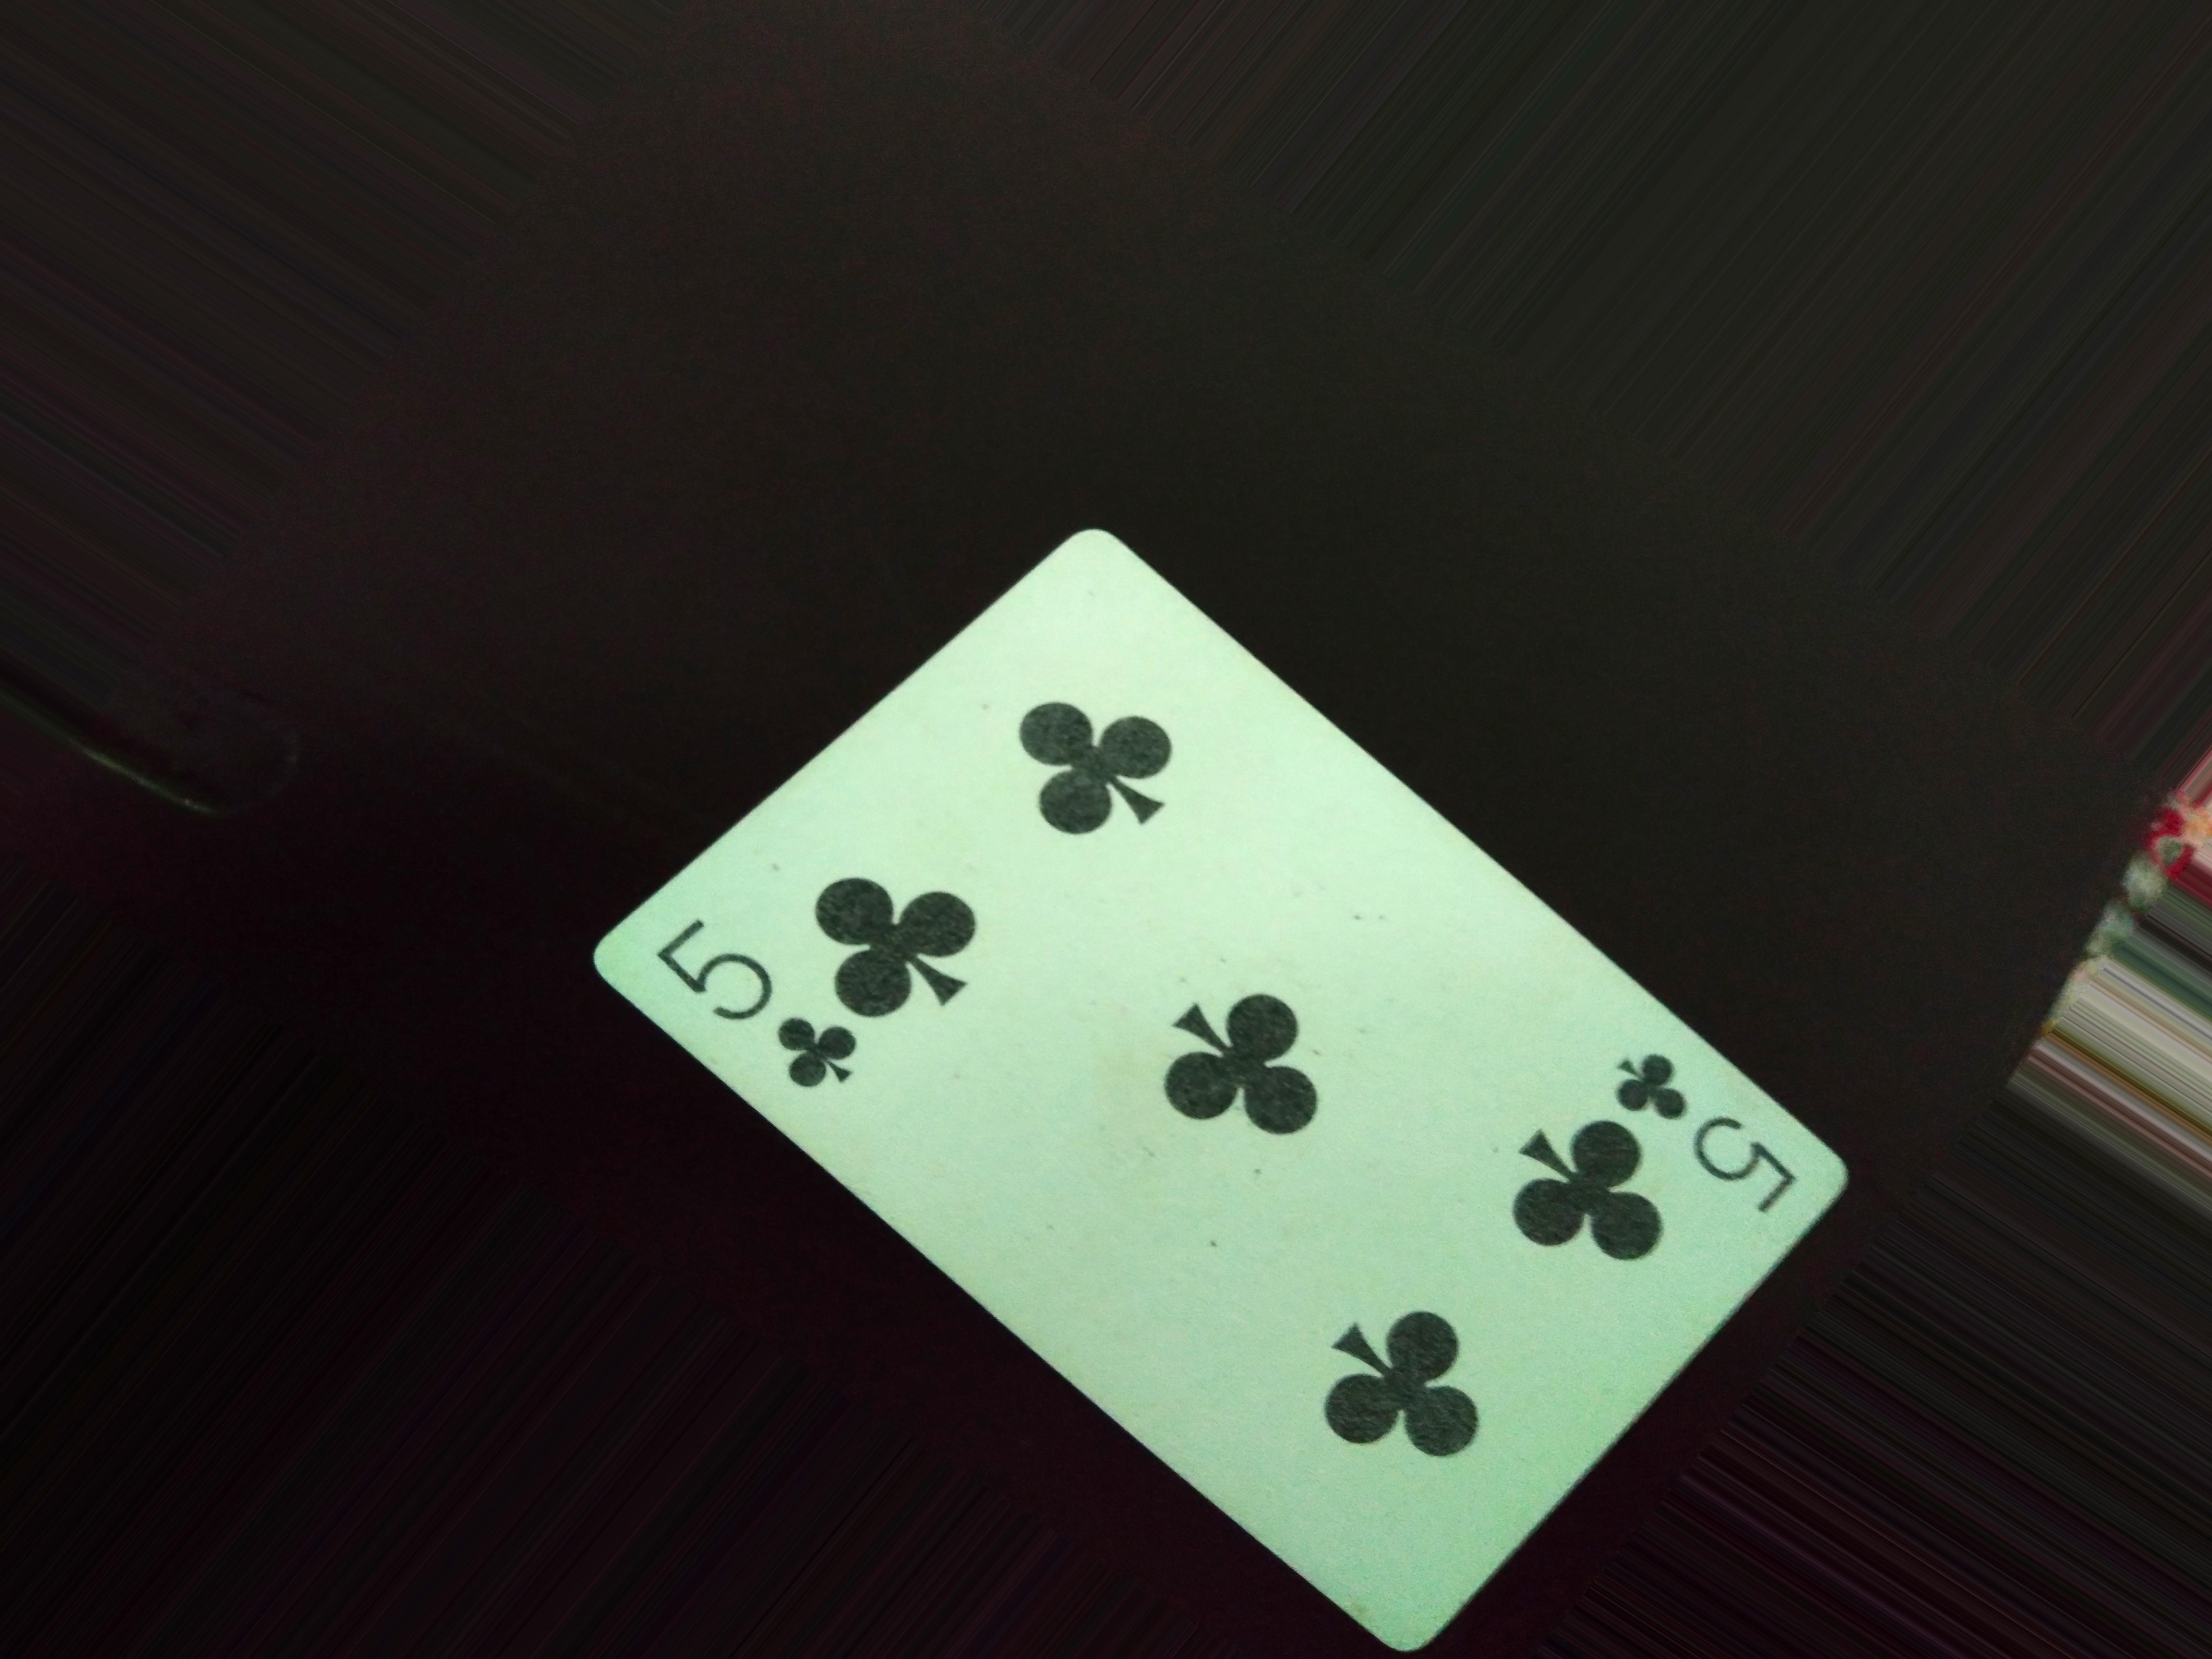5C: (657, 903, 895, 1147)
